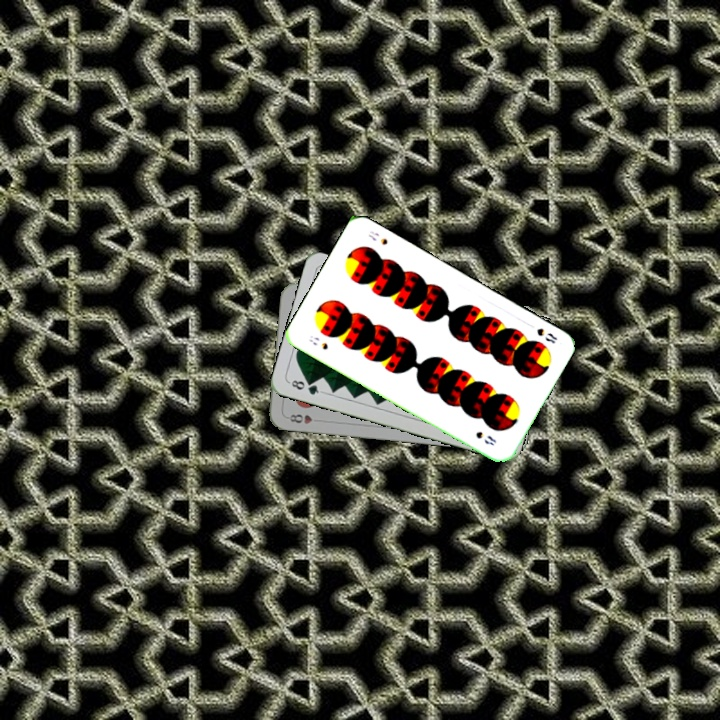G8: (285, 376, 325, 398)
H8: (286, 410, 324, 426)
S8: (533, 324, 560, 346), (305, 331, 331, 352)
